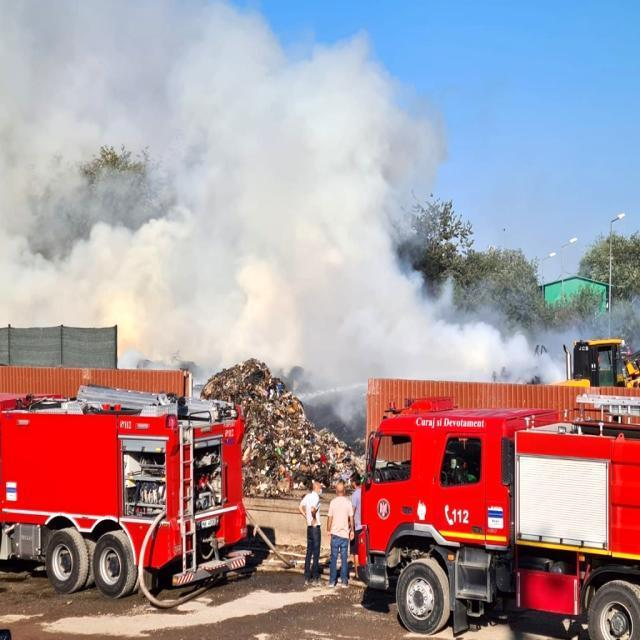Smoke: (14, 10, 498, 382)
